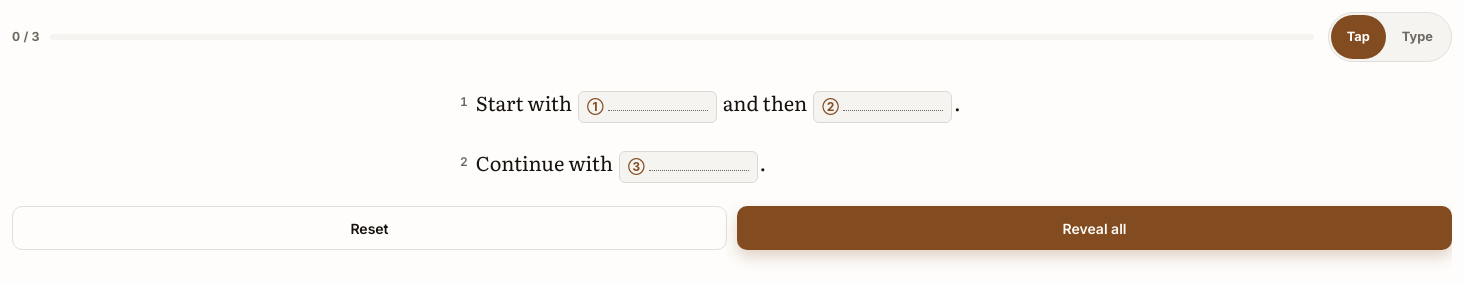
Scenario: ClozeTrainer › tapping a blank reveals it and advances progress
Click the button with test id "cloze-blank" showing "①" at point(647, 107), box [578,91,717,123]
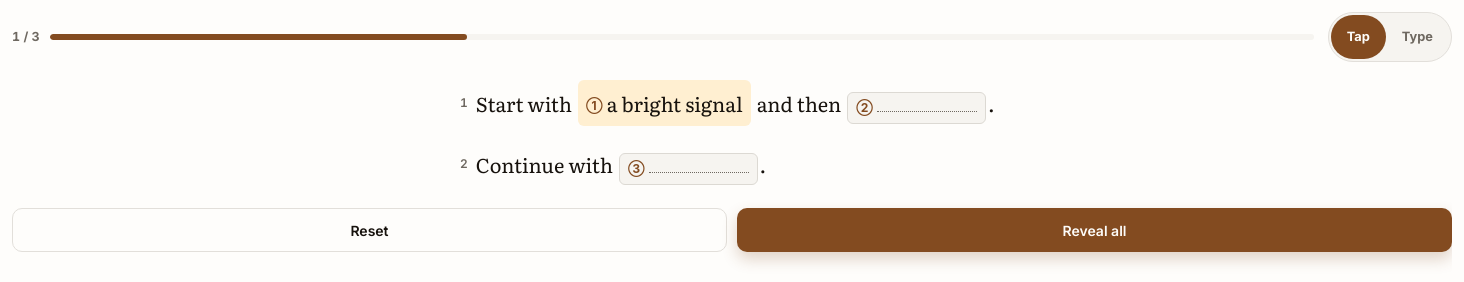
Check: the text "a bright signal" is shown, box [578,80,751,126]
Check: the text "1 / 3" is shown, box [12,28,40,46]
